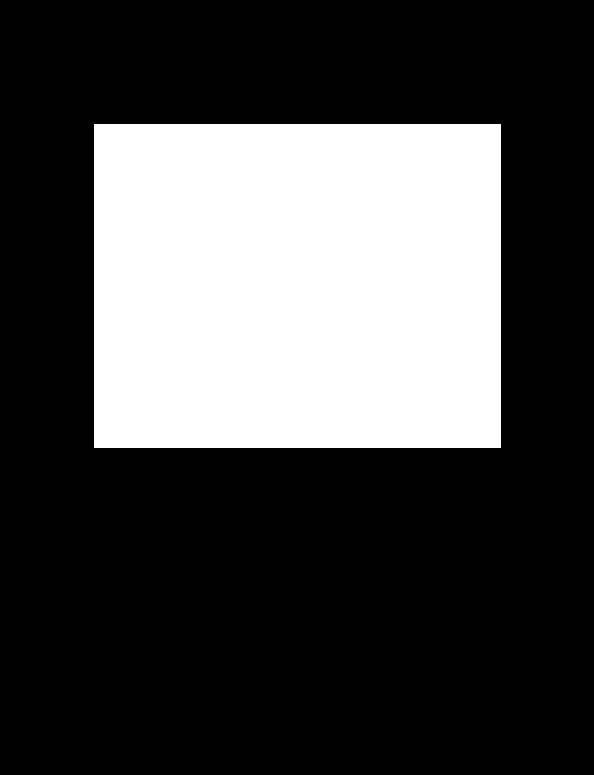table: (94, 124, 500, 447)
